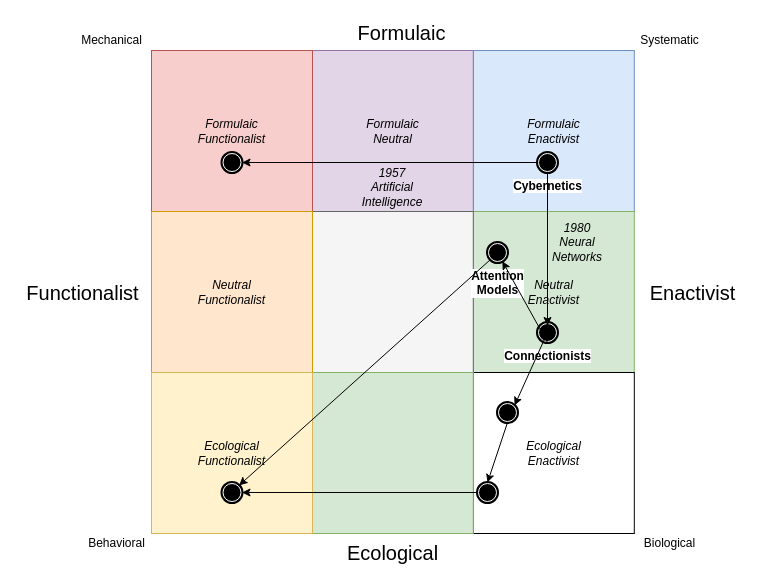
Image size: 759x584. Some labels were removed from this diagram. The shapes that lost their labels are listed below. From the top down, each one's centre as x and y in pixels, then its label:
the point at 231,162: GOFAI
the point at 507,412: Self Play
the point at 392,453: Ecological Neutral
the point at 231,492: Conversational Cognition
the point at 487,492: Co-Evolution
